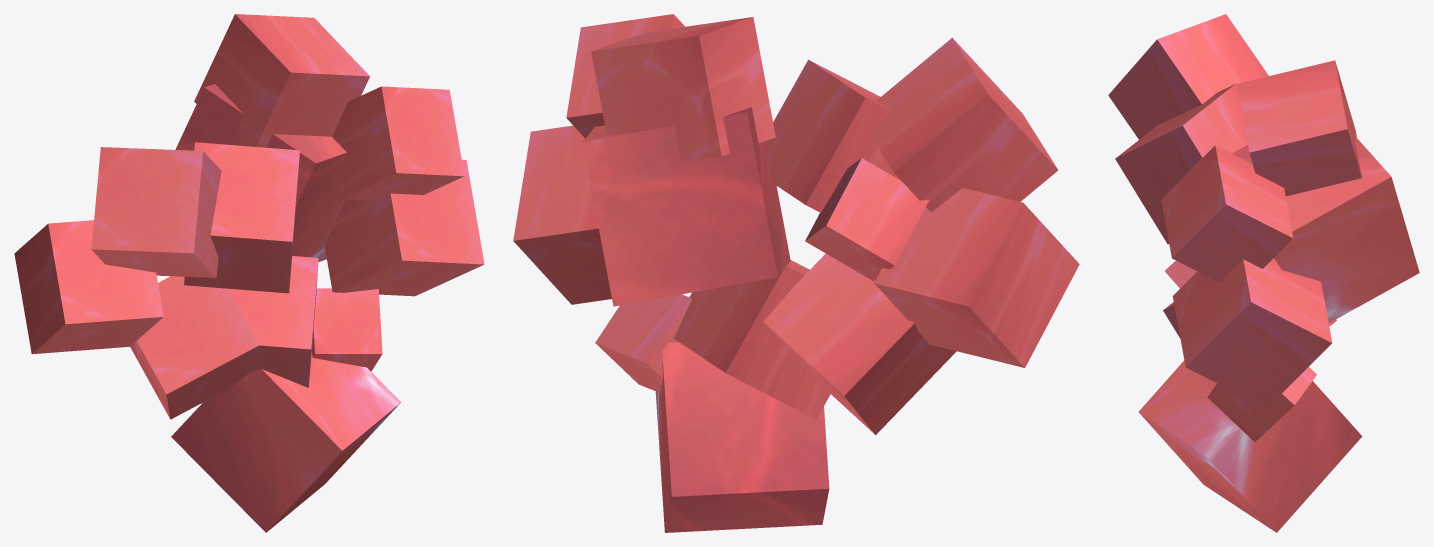
File: lingmengkuang_1.fbx
The picture shows the model from 3 angles, left to right: view 1: azimuth 30°, elevation 25°; view 2: azimuth 150°, elevation 25°; view 3: azimuth 270°, elevation 25°; orthographic projection. The views are drawn at different scales.
Visible parts, largest first — view 1: polySurface43; view 2: polySurface43; view 3: polySurface43.
Boxes of the visible parts, bbox=[...] form: polySurface43: bbox=[14, 14, 484, 532]; polySurface43: bbox=[513, 14, 1079, 532]; polySurface43: bbox=[1108, 14, 1419, 532].
Bounding box in the file's own units: 118 × 120 × 76.11.
